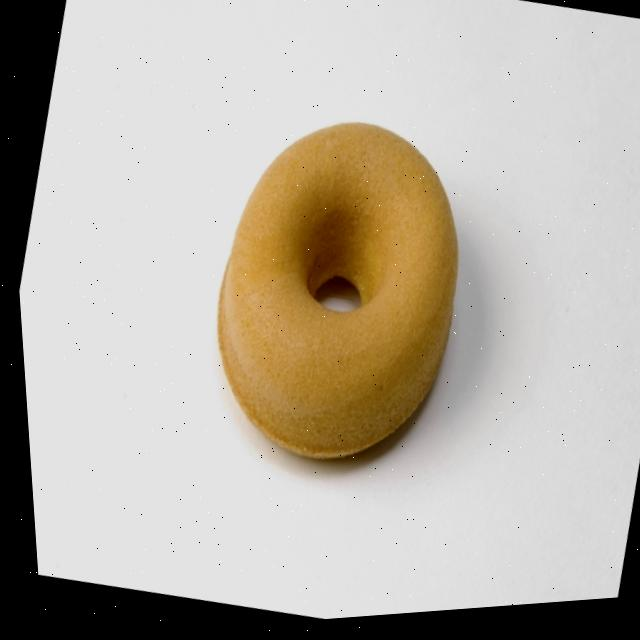炸货点心: (133, 66, 517, 554)
